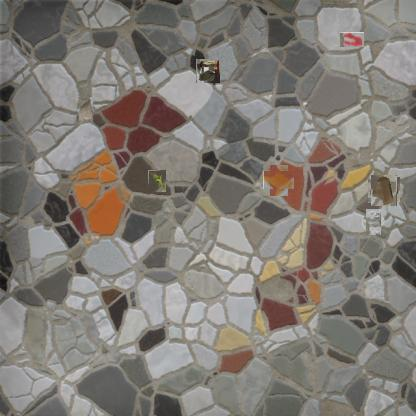dirty: (369, 176, 399, 205), (197, 59, 221, 83), (362, 212, 384, 232), (77, 97, 93, 123), (148, 170, 166, 192)
liquid: (267, 168, 291, 193), (340, 32, 364, 47)
